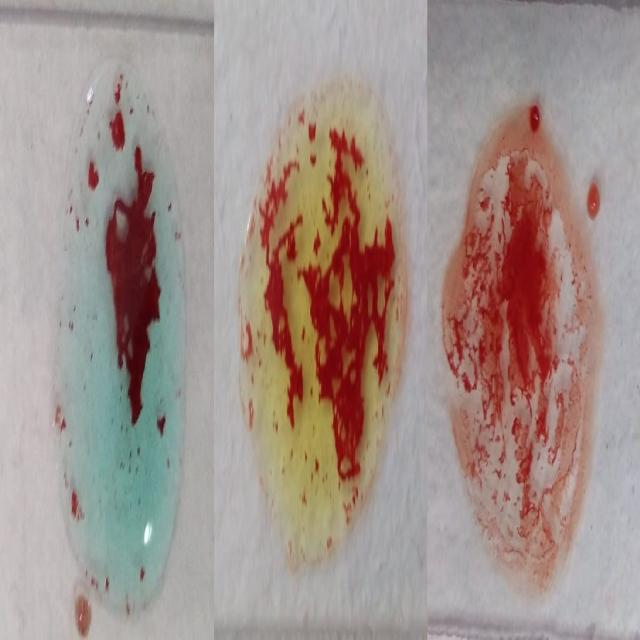A: (50, 60, 194, 606)
B: (246, 85, 400, 564)
D: (444, 117, 594, 582)
